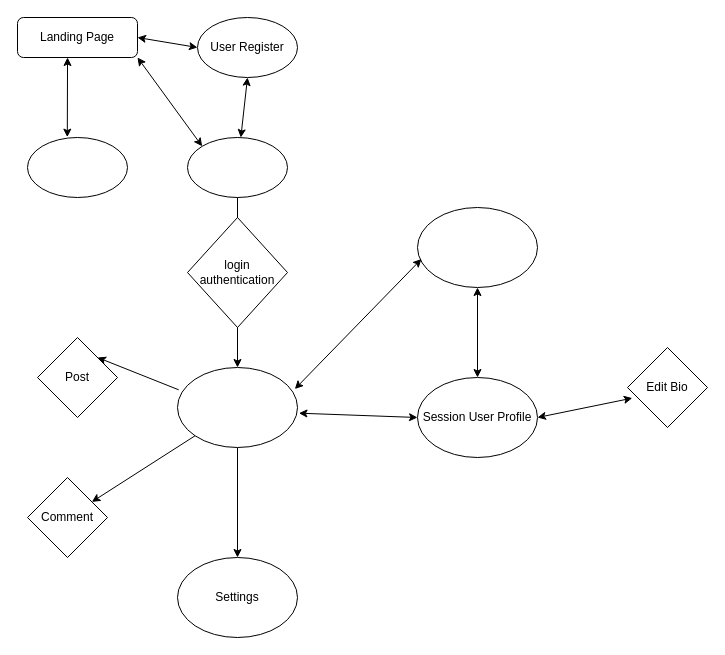
This 725x655 diagram has some shape labels left out. The centre of each missing label's shape, as x and y in pixels:
"About Us" belongs at point (77, 167).
"Friend User Profile" belongs at point (477, 247).
"Home Page" belongs at point (237, 407).
"User Login" belongs at point (237, 167).
